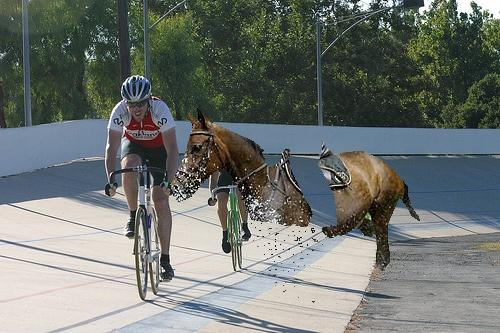tampered: (171, 109, 420, 303)
